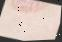plaque psoriasis: (1, 0, 48, 18)
